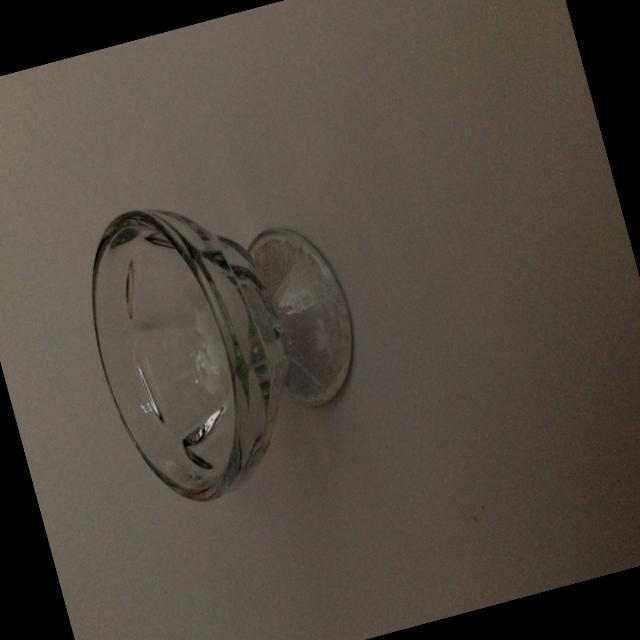Glass: (57, 150, 405, 530)
